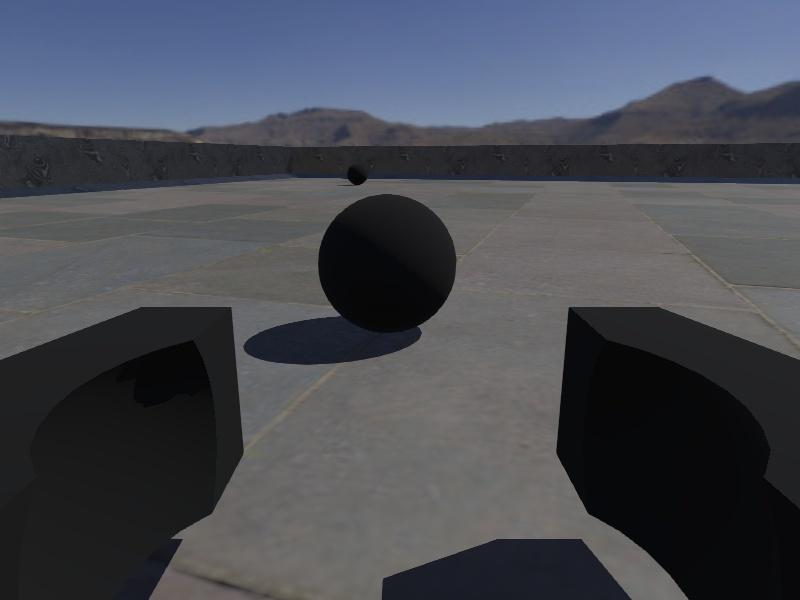black ball: (317, 193, 458, 335), (346, 163, 368, 185)
